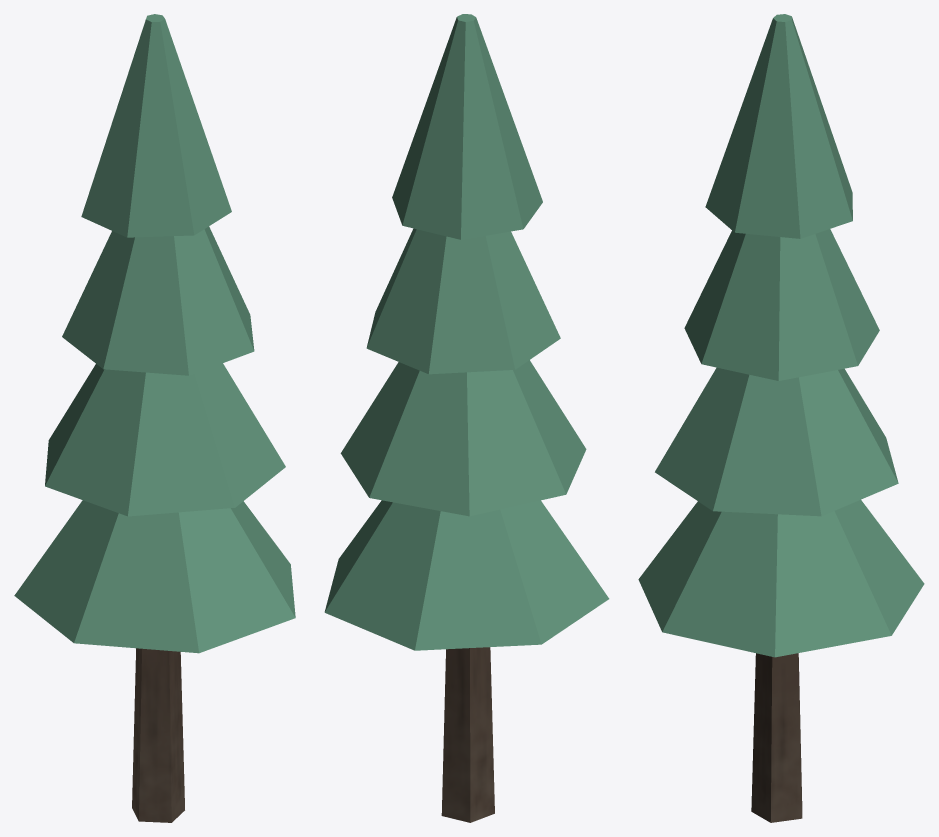
Rendered from arv_pinheiro_6.glb.
The picture shows the model from 3 angles, left to right: view 1: azimuth 30°, elevation 25°; view 2: azimuth 150°, elevation 25°; view 3: azimuth 270°, elevation 25°; orthographic projection.
Parts seen in each view (by area): view 1: arv_pinheiro_6; view 2: arv_pinheiro_6; view 3: arv_pinheiro_6.
Boxes of the visible parts, bbox=[...] form: arv_pinheiro_6: bbox=[14, 14, 295, 822]; arv_pinheiro_6: bbox=[324, 14, 609, 822]; arv_pinheiro_6: bbox=[638, 14, 924, 822].
Size of the model in its own units: 0.8503 by 2.65 by 0.865.
Materials: 2 (1 with a texture image).
